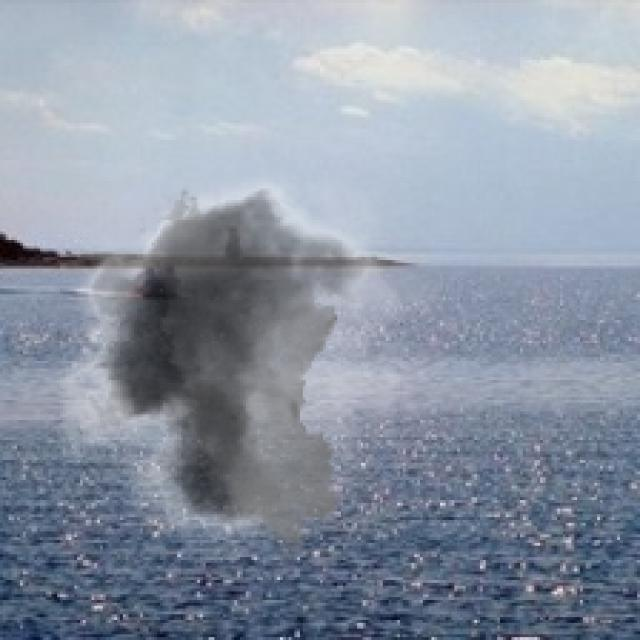smoke: (37, 154, 446, 560)
